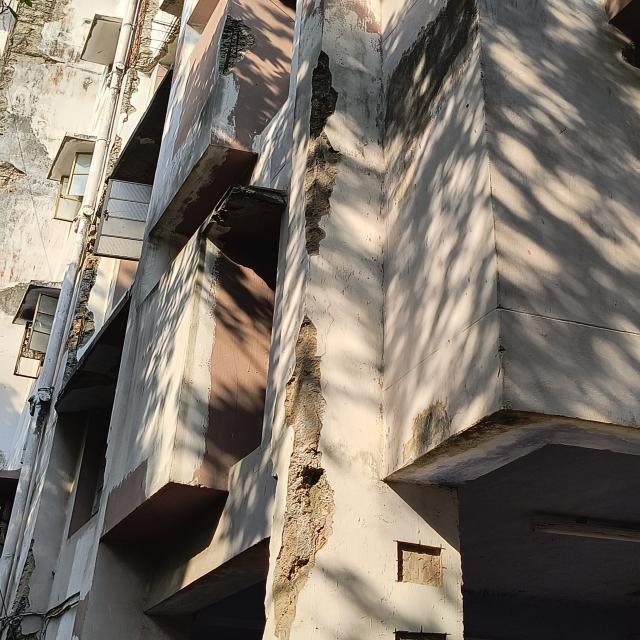spalling: (273, 316, 334, 640), (0, 0, 67, 137), (305, 52, 340, 257), (66, 194, 104, 370), (116, 0, 160, 120), (0, 545, 44, 640), (66, 254, 100, 370), (219, 16, 255, 75), (221, 29, 250, 59), (160, 18, 179, 56), (105, 138, 121, 181), (0, 162, 22, 191)
stain_mould: (48, 64, 76, 96)
